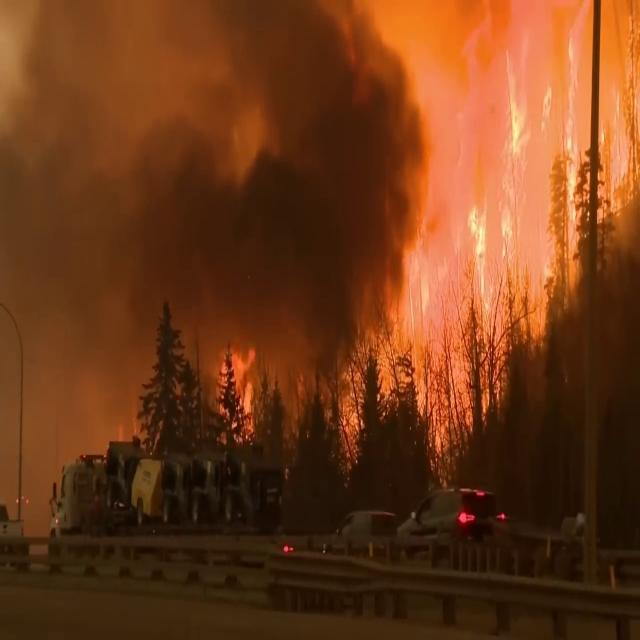Fire: (414, 0, 640, 400), (216, 342, 264, 440)
Smoke: (0, 0, 460, 446)
